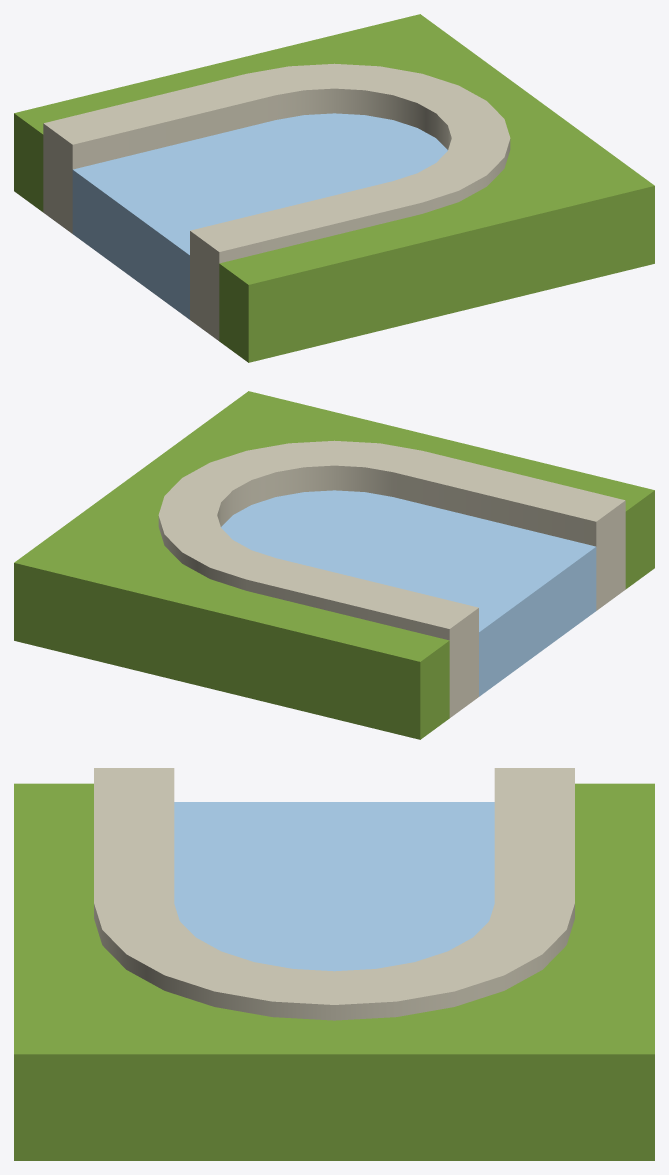
File: tile147.obj
The picture shows the model from 3 angles, top to bottom: view 1: azimuth 30°, elevation 25°; view 2: azimuth 150°, elevation 25°; view 3: azimuth 270°, elevation 25°; orthographic projection. The views are drawn at different scales.
Parts seen in each view (by area): view 1: tile147; view 2: tile147; view 3: tile147.
Part boxes in pixels (x1,y1,x2,y2): tile147: [14, 14, 654, 362]; tile147: [14, 391, 654, 739]; tile147: [14, 768, 654, 1160].
Size of the model in its own units: 1 by 0.21 by 1.
